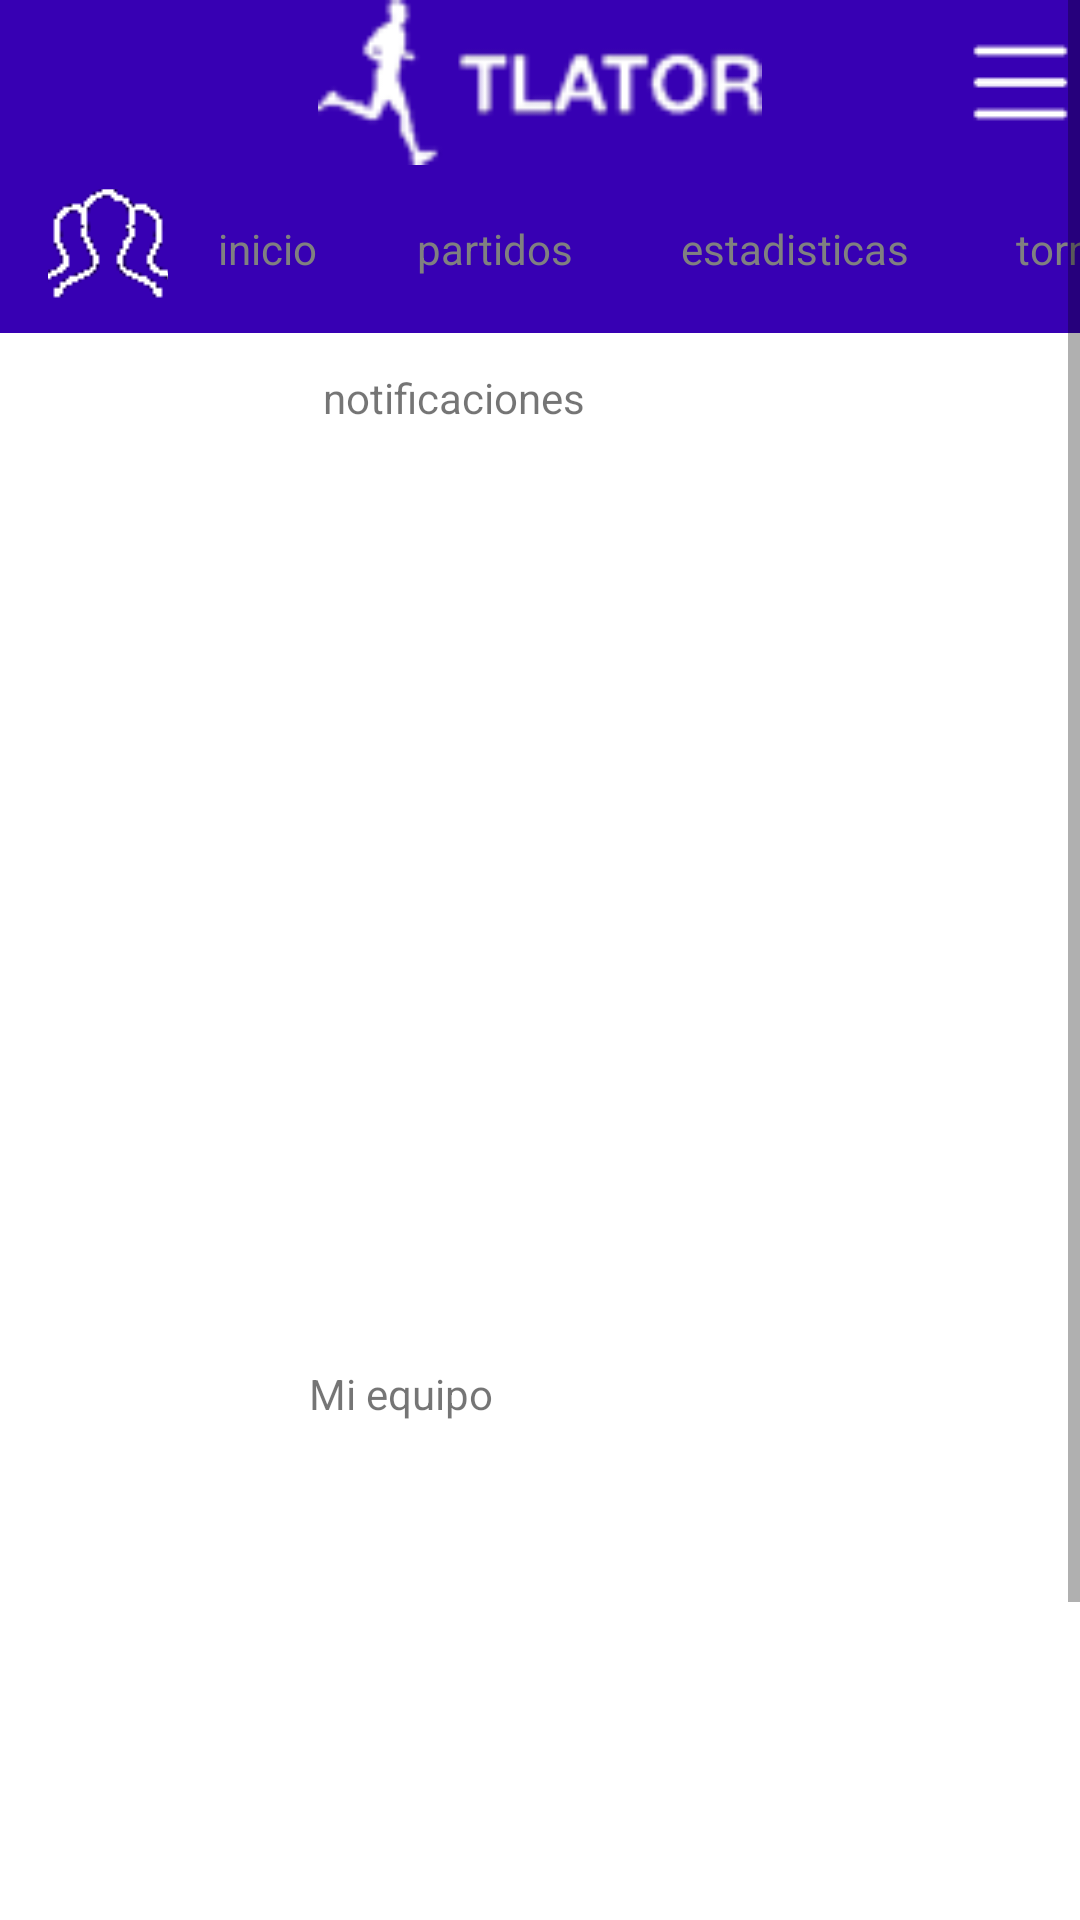

Named icons in this screenshot (1080px×1920px) and their bounding boxes, (x1, y1, x2, y2):
menu: (973, 22, 1080, 142)
users: (48, 189, 168, 298)
